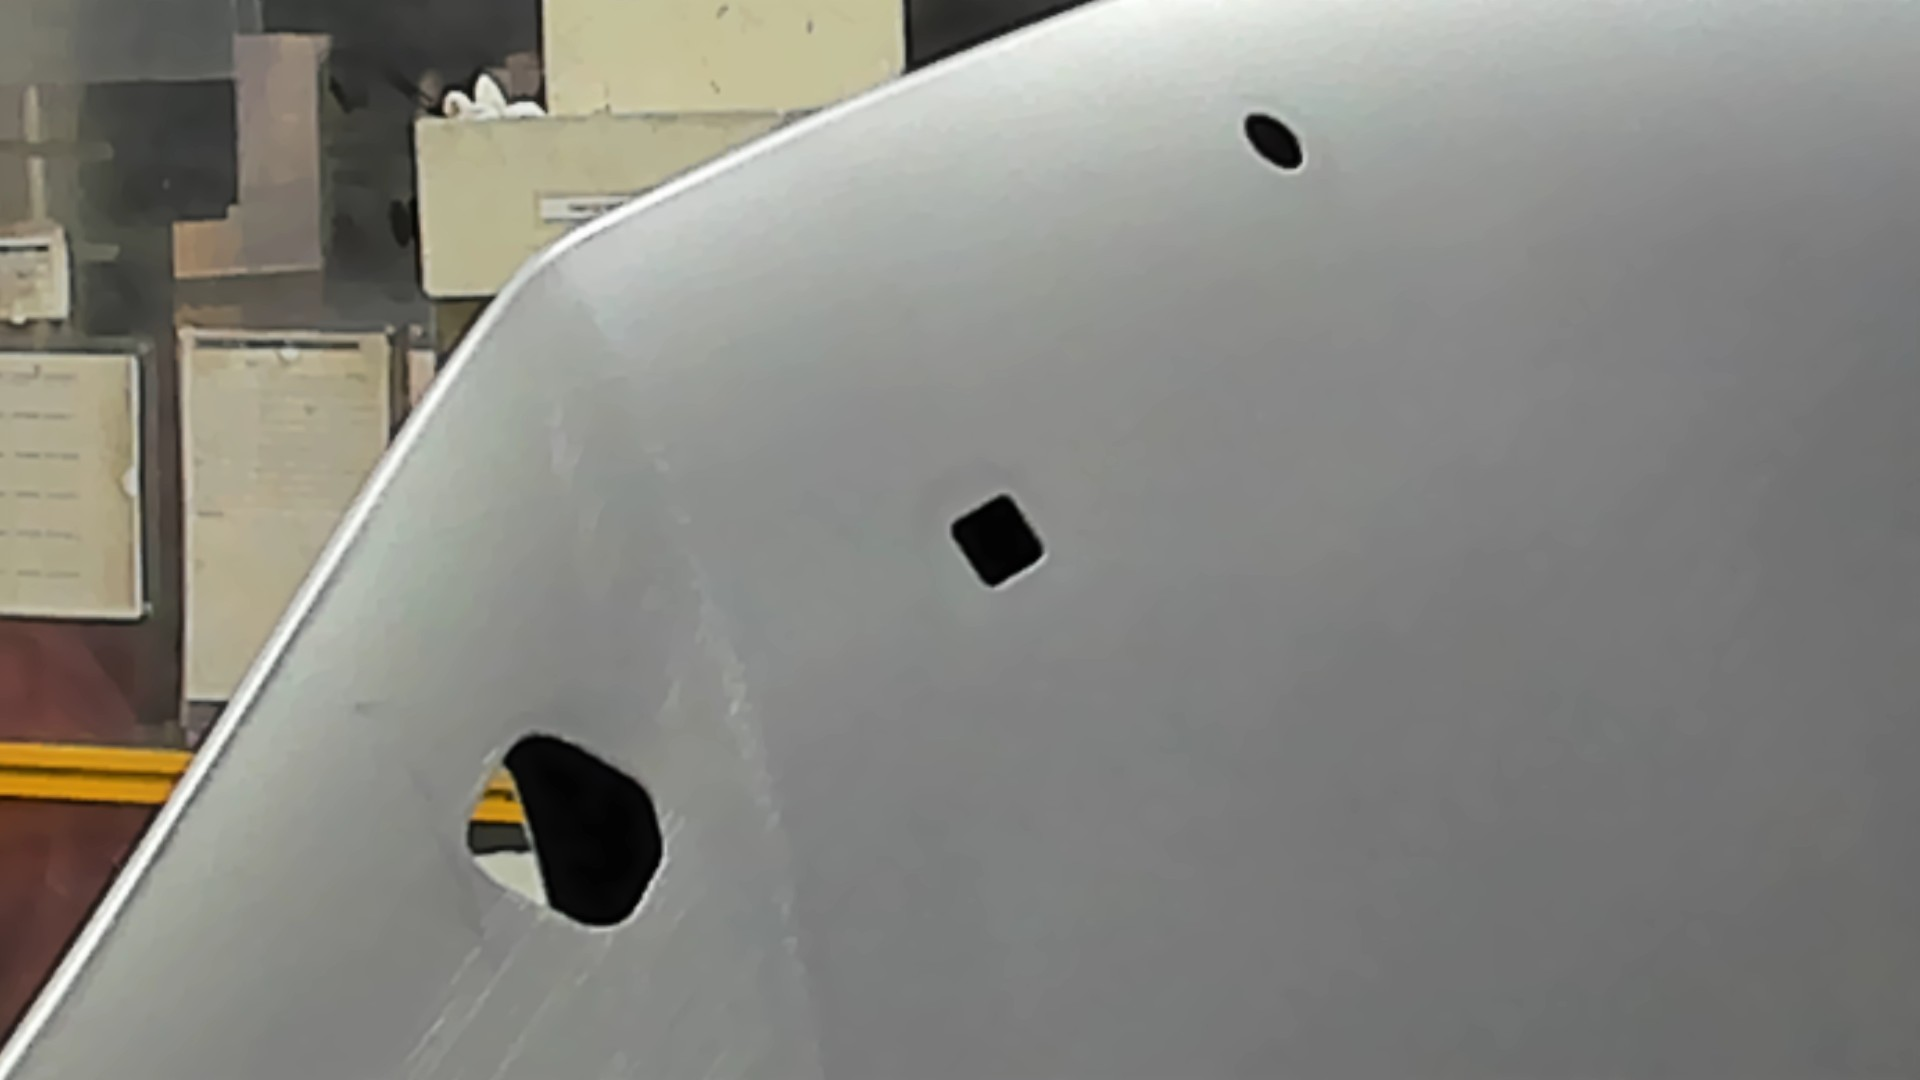capo: (1052, 174, 1920, 1080)
chico: (1236, 108, 1313, 178)
grande: (458, 723, 673, 940)
mediano: (938, 488, 1056, 595)
